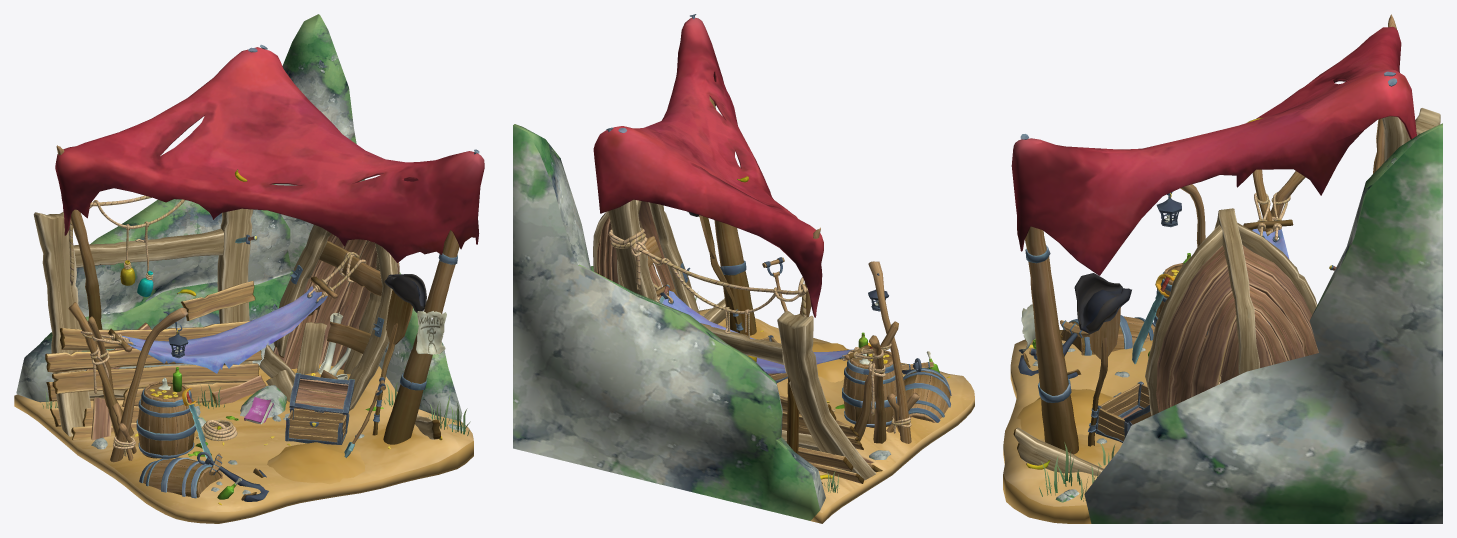
File: dae_crib_-_pirate_camp.glb
3 views of the same model, side by side, from view 1: azimuth 30°, elevation 25°; view 2: azimuth 150°, elevation 25°; view 3: azimuth 270°, elevation 25° (orthographic). The views are drawn at different scales.
Parts seen in each view (by area): view 1: Tarp, Scale.001, Scale.003, Plane.002, Cube.062, Cylinder.048, Cylinder, Cube.065, Cube.060, Scale.002, Cube.063, Cylinder.005 (+26 smaller); view 2: Scale.001, Tarp, Scale.003, Cube.062, Cube.063, Cylinder, Cylinder.048, Cylinder.005, BezierCurve.003, Cylinder.032, ImagePaste-240611-102933.004, Cube.060 (+9 smaller); view 3: Scale.001, Tarp, Scale.003, Cylinder, ImagePaste-240611-102933.005, ImagePaste-240611-102933.009, ImagePaste-240611-102933.006, ImagePaste-240611-102933.004, ImagePaste-240611-102933.014, Plane.001, ImagePaste-240611-102933.020, ImagePaste-240611-102933.010 (+14 smaller).
Part boxes in pixels (<box>): Tarp: <box>55,47,484,262</box>; Scale.001: <box>16,14,462,420</box>; Scale.003: <box>14,364,473,523</box>; Plane.002: <box>122,286,327,373</box>; Cube.062: <box>33,212,91,436</box>; Cylinder.048: <box>136,381,196,458</box>; Cylinder: <box>383,230,459,444</box>; Cube.065: <box>52,363,259,393</box>; Cube.060: <box>73,228,223,267</box>; Scale.002: <box>267,442,365,484</box>; Cube.063: <box>217,208,253,382</box>; Cylinder.005: <box>139,457,222,498</box>; Scale.001: <box>513,124,825,520</box>; Tarp: <box>593,17,823,317</box>; Scale.003: <box>699,308,974,523</box>; Cube.062: <box>777,311,876,480</box>; Cube.063: <box>608,199,660,302</box>; Cylinder: <box>709,97,756,335</box>; Cylinder.048: <box>842,350,897,427</box>; Cylinder.005: <box>903,368,951,422</box>; BezierCurve.003: <box>608,228,808,316</box>; Cylinder.032: <box>868,261,911,443</box>; ImagePaste-240611-102933.004: <box>648,202,699,313</box>; Cube.060: <box>700,323,783,364</box>; Scale.001: <box>1084,123,1442,523</box>; Tarp: <box>1011,27,1416,275</box>; Scale.003: <box>1003,330,1152,523</box>; Cylinder: <box>1025,226,1078,454</box>; ImagePaste-240611-102933.005: <box>1214,208,1259,374</box>; ImagePaste-240611-102933.009: <box>1156,245,1227,412</box>; ImagePaste-240611-102933.006: <box>1170,267,1231,406</box>; ImagePaste-240611-102933.004: <box>1145,225,1222,415</box>; ImagePaste-240611-102933.014: <box>1191,291,1236,397</box>; Plane.001: <box>1074,273,1131,334</box>; ImagePaste-240611-102933.020: <box>1013,427,1103,475</box>; ImagePaste-240611-102933.010: <box>1246,263,1318,356</box>.
Size of the model in its own units: 3.6 by 3.59 by 3.58.
Materials: 3 (1 with a texture image).
